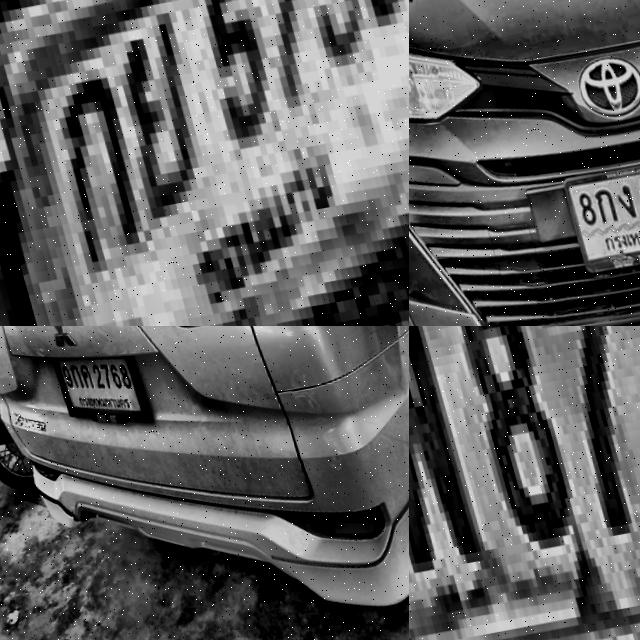license-plate: (0, 0, 409, 326), (409, 326, 640, 640), (545, 149, 640, 278), (39, 336, 148, 440)
